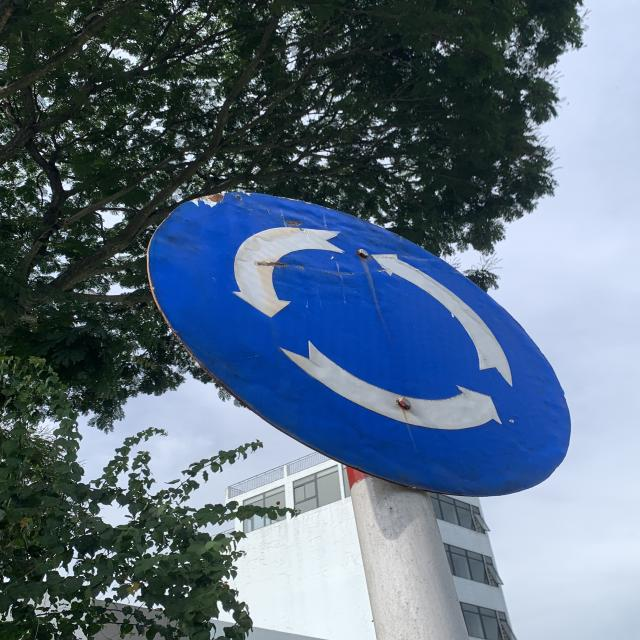Xe_Bus: (153, 189, 578, 492)
